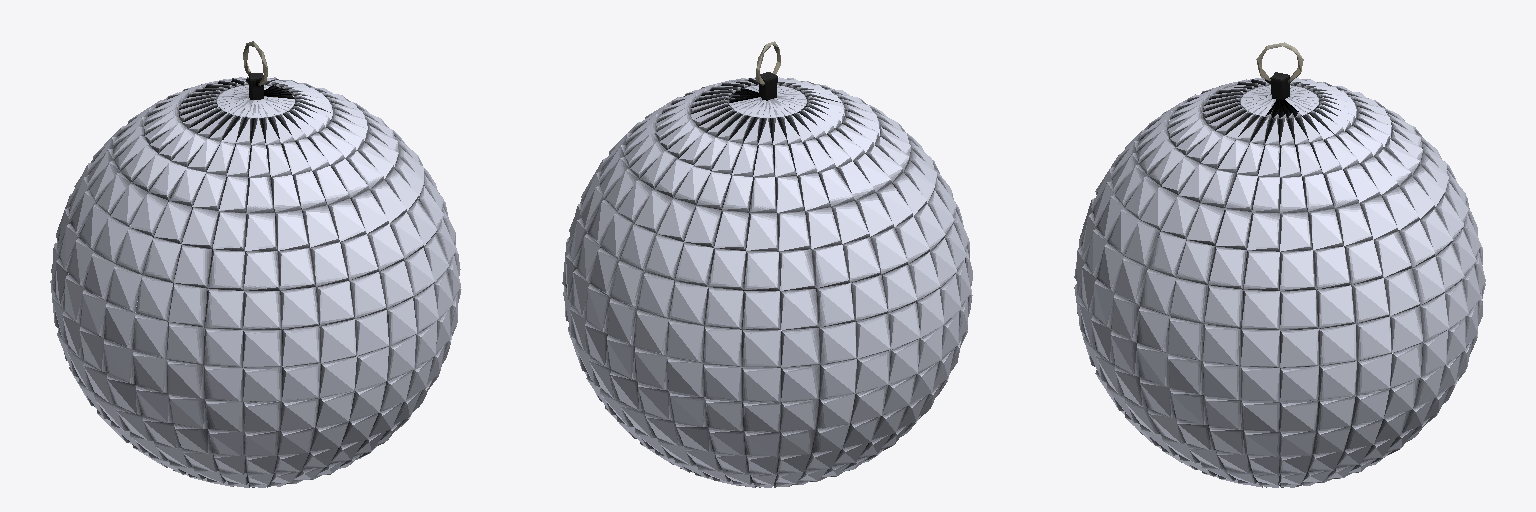
The picture shows the model from 3 angles: view 1: azimuth 30°, elevation 25°; view 2: azimuth 150°, elevation 25°; view 3: azimuth 270°, elevation 25°; orthographic projection.
Visible parts, largest first — view 1: disco_ball; view 2: disco_ball; view 3: disco_ball.
Part boxes in pixels (x1,y1,x2,y2): disco_ball: (50, 41, 461, 487); disco_ball: (562, 41, 972, 487); disco_ball: (1074, 42, 1485, 487).
Size of the model in its own units: 64.21 by 73.46 by 64.21.
1 materials, 1 textured.